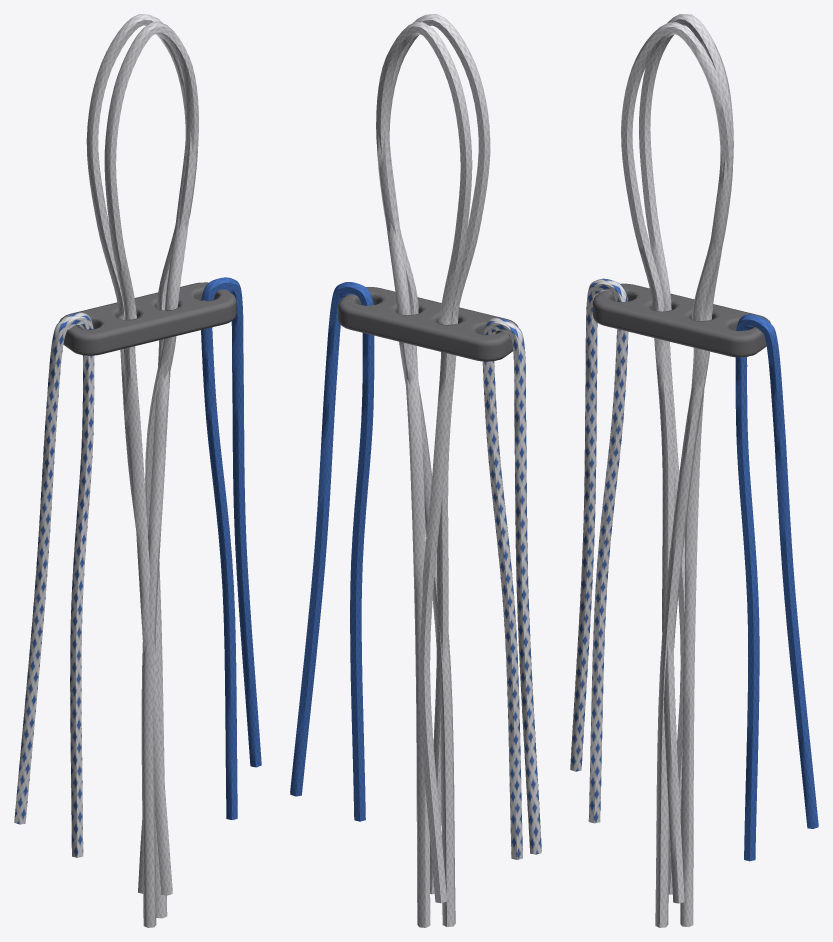
File: wingbutton.lod1.glb
3 views of the same model, side by side, from view 1: azimuth 30°, elevation 25°; view 2: azimuth 150°, elevation 25°; view 3: azimuth 330°, elevation 25° (orthographic).
Visible parts, largest first — view 1: wingbutton; view 2: wingbutton; view 3: wingbutton.
Boxes of the visible parts, x1=… form: wingbutton: x1=14, y1=14, x2=261, y2=927; wingbutton: x1=290, y1=14, x2=541, y2=927; wingbutton: x1=570, y1=14, x2=818, y2=927.
Size of the model in its own units: 0.0182 by 0.0632 by 0.004.
4 materials, 3 textured.
